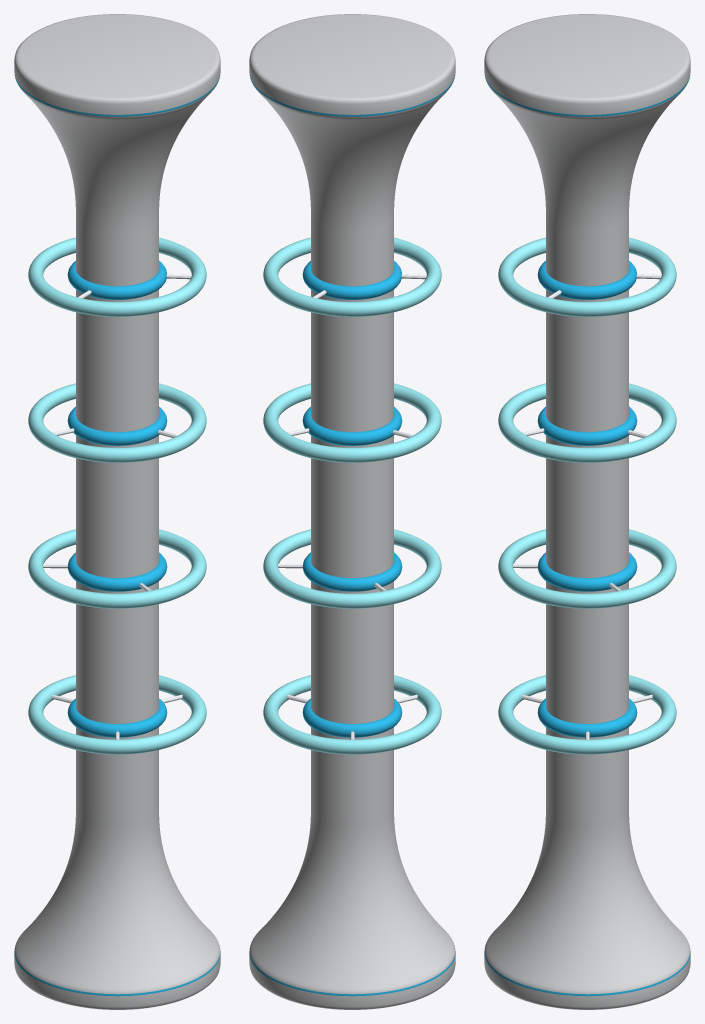
File: Pillar_D07_HaloRings.fbx
3 views of the same model, side by side, from view 1: azimuth 30°, elevation 25°; view 2: azimuth 150°, elevation 25°; view 3: azimuth 270°, elevation 25° (orthographic).
Visible parts, largest first — view 1: Pillar_D07_HaloRings; view 2: Pillar_D07_HaloRings; view 3: Pillar_D07_HaloRings.
Boxes of the visible parts, x1,y1,x2,y2 form: Pillar_D07_HaloRings: (14, 14, 220, 1009); Pillar_D07_HaloRings: (249, 14, 455, 1009); Pillar_D07_HaloRings: (484, 14, 690, 1009).
Bounding box in the file's own units: 0.82 × 4 × 0.82.
